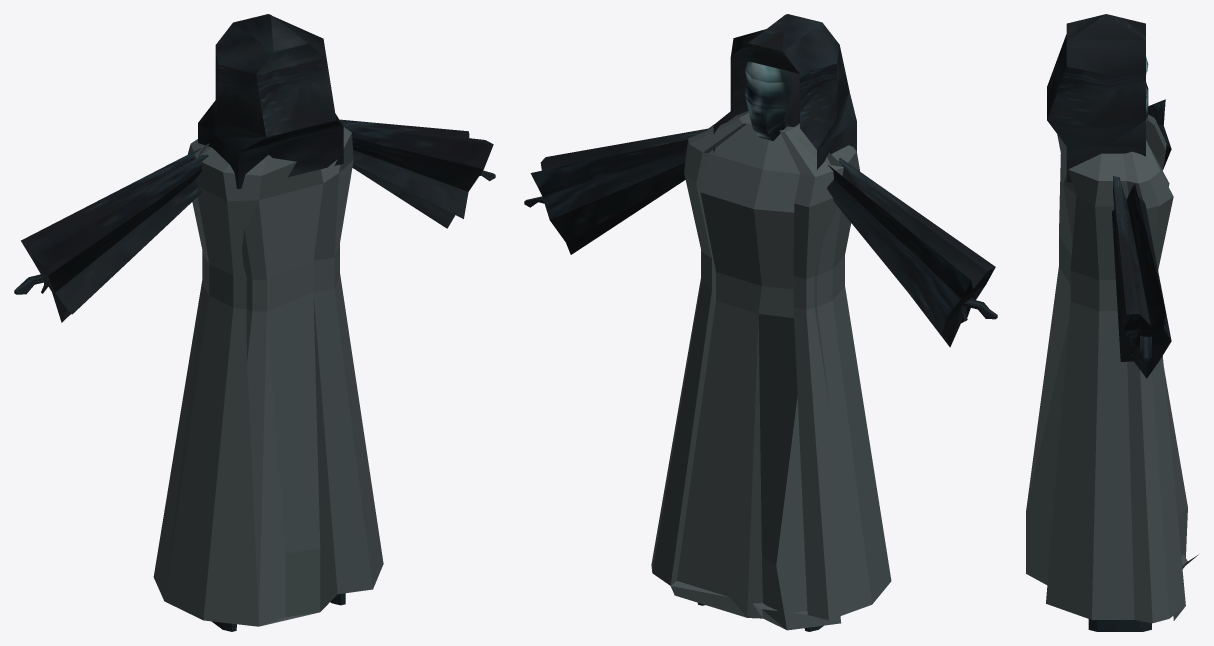
Rendered from black-samurai-07dd.glb.
The picture shows the model from 3 angles, left to right: view 1: azimuth 30°, elevation 25°; view 2: azimuth 150°, elevation 25°; view 3: azimuth 270°, elevation 25°; orthographic projection. The views are drawn at different scales.
Visible parts, largest first — view 1: Object_4, Object_2, Object_3; view 2: Object_4, Object_2, Object_3; view 3: Object_4, Object_3, Object_2.
Part boxes in pixels (x1=…): Object_4: x1=153, y1=127, x2=383, y2=626; Object_2: x1=21, y1=119, x2=493, y2=322; Object_3: x1=14, y1=14, x2=495, y2=631; Object_4: x1=651, y1=111, x2=891, y2=630; Object_2: x1=530, y1=128, x2=995, y2=347; Object_3: x1=524, y1=14, x2=997, y2=631; Object_4: x1=1026, y1=114, x2=1198, y2=623; Object_3: x1=1047, y1=14, x2=1151, y2=631; Object_2: x1=1112, y1=99, x2=1171, y2=378.
Size of the model in its own units: 1.71 by 2.04 by 0.5496.
1 material, 1 textured.
